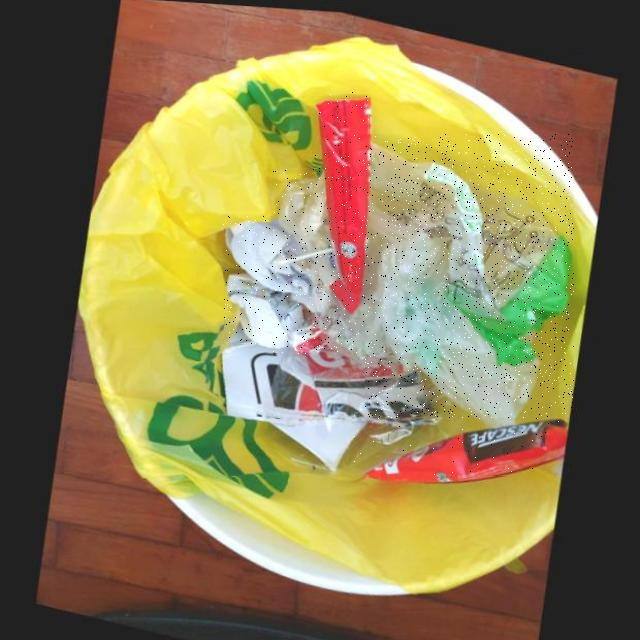paper: (224, 216, 306, 292), (224, 269, 295, 344)
plastic: (366, 135, 574, 419), (273, 169, 387, 354)
wrapper: (354, 411, 565, 476), (316, 91, 369, 309)
